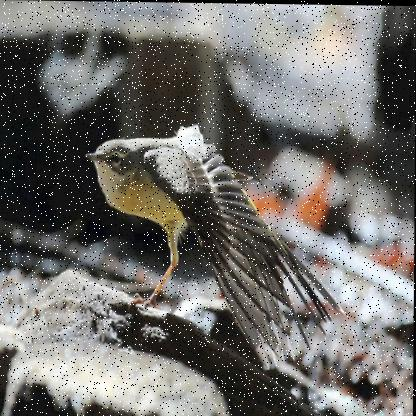Burung: (78, 122, 336, 372)
